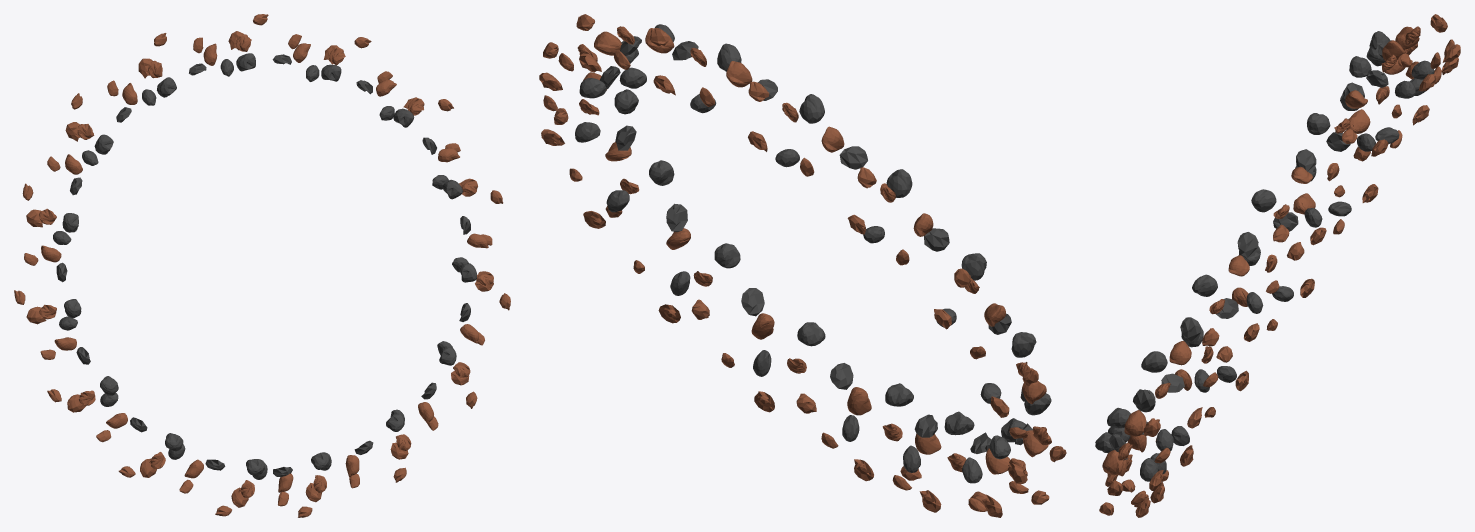
Rendered from AsteroidCircle.fbx.
3 views of the same model, side by side, from view 1: azimuth 30°, elevation 25°; view 2: azimuth 150°, elevation 25°; view 3: azimuth 270°, elevation 25° (orthographic). The views are drawn at different scales.
Parts seen in each view (by area): view 1: AsteroidCircle; view 2: AsteroidCircle; view 3: AsteroidCircle.
Part boxes in pixels (x1,y1,x2,y2): AsteroidCircle: (14, 14, 510, 517); AsteroidCircle: (539, 14, 1066, 517); AsteroidCircle: (1095, 14, 1460, 517).
Bounding box in the file's own units: 44.35 × 40.28 × 27.81.
